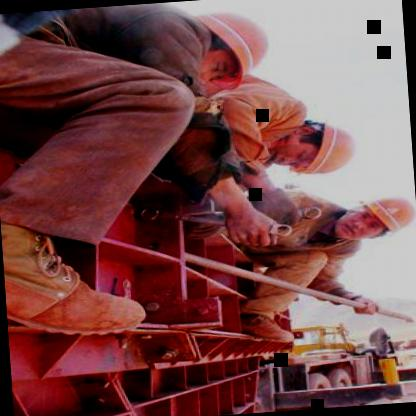helmet: (164, 2, 274, 95), (259, 115, 366, 182), (322, 192, 416, 253)
